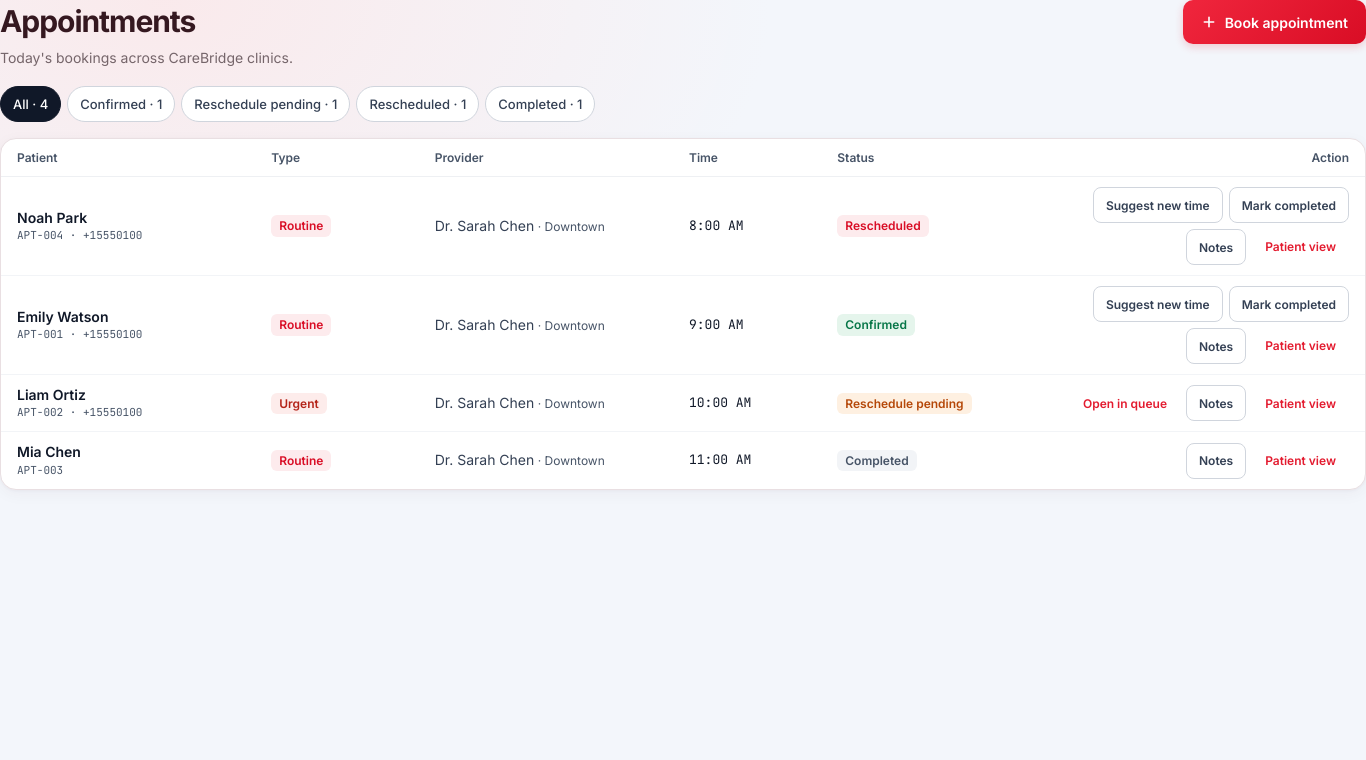
Test: AppointmentsView list › opens staff-only appointment notes and saves a note
Click the button "Notes" in the row of "9:00 AM": (1216, 346) [1186,328,1246,364]
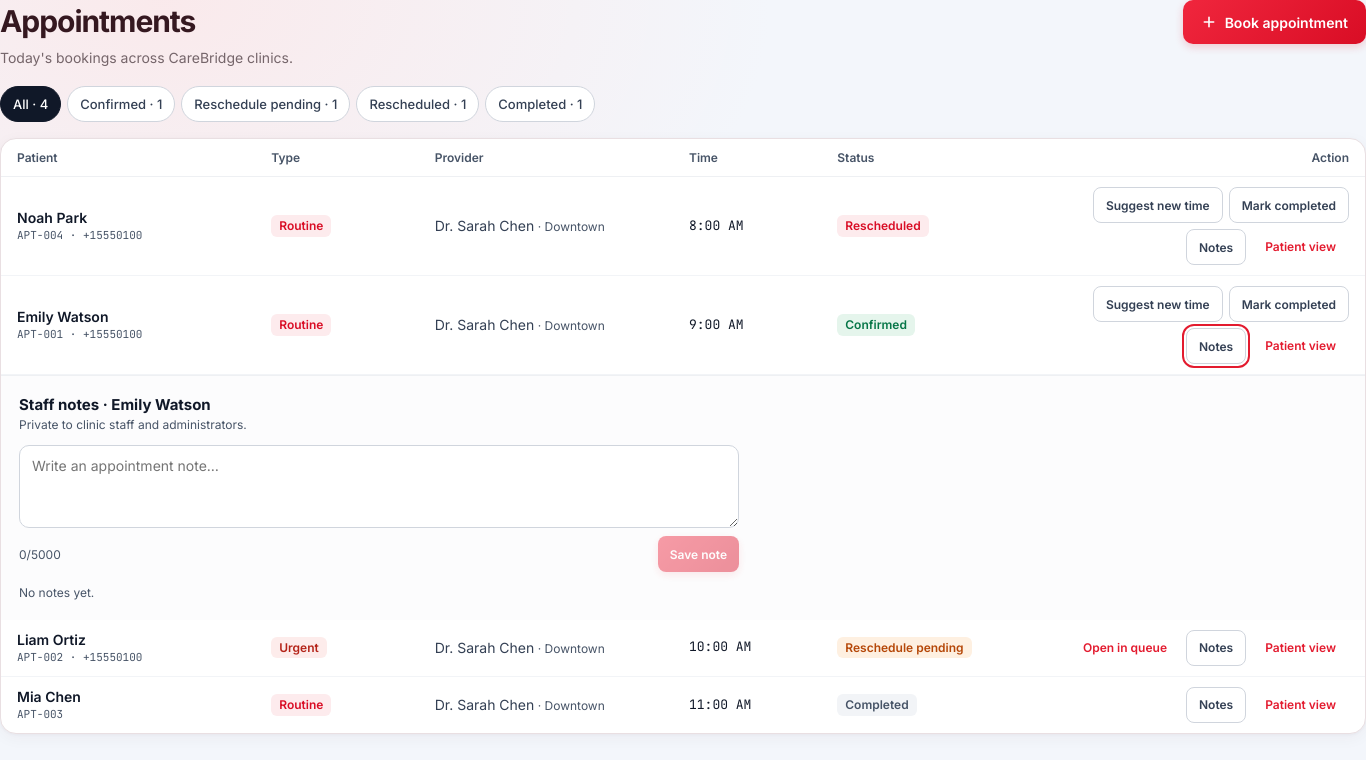
In the text box named "Add a note": (379, 487) [19,445,739,528], type "Call patient tomorrow"
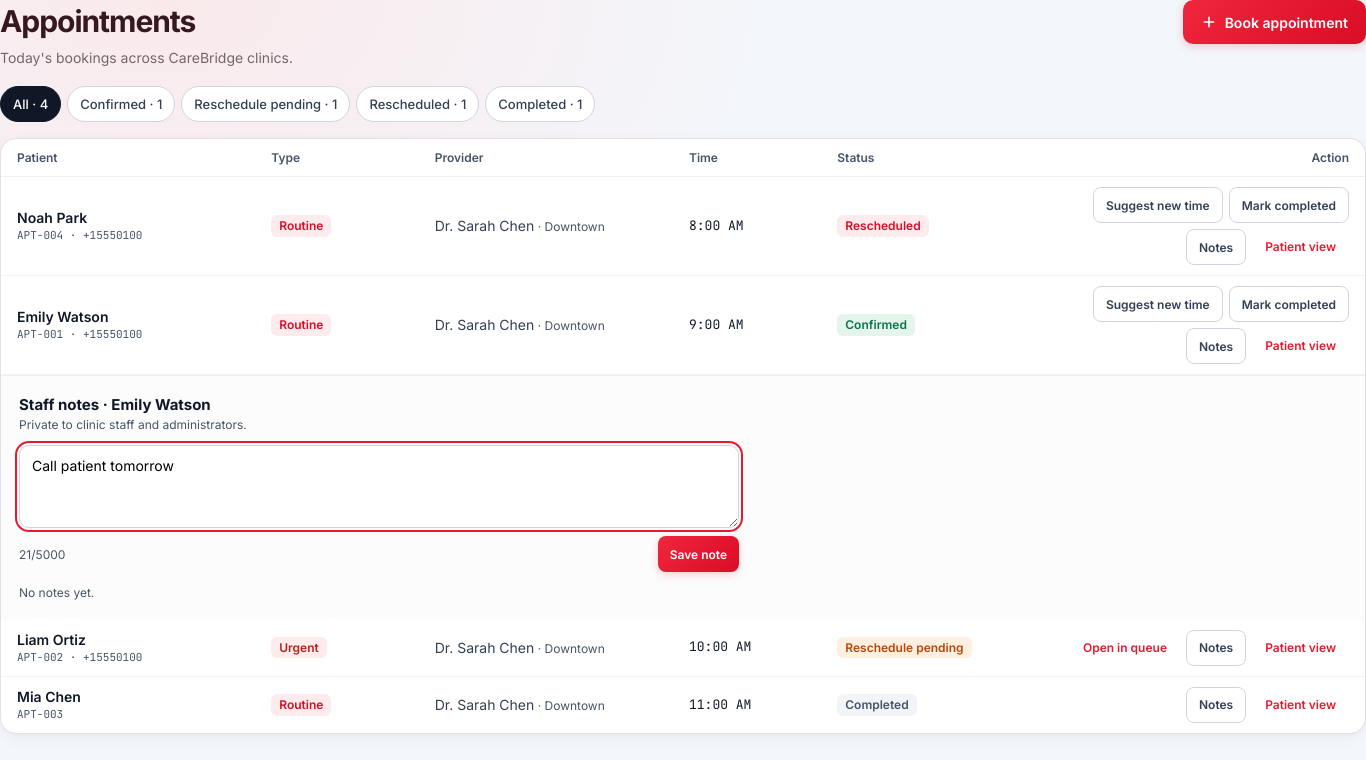
Click the button "Save note": (698, 554) [658,536,739,572]
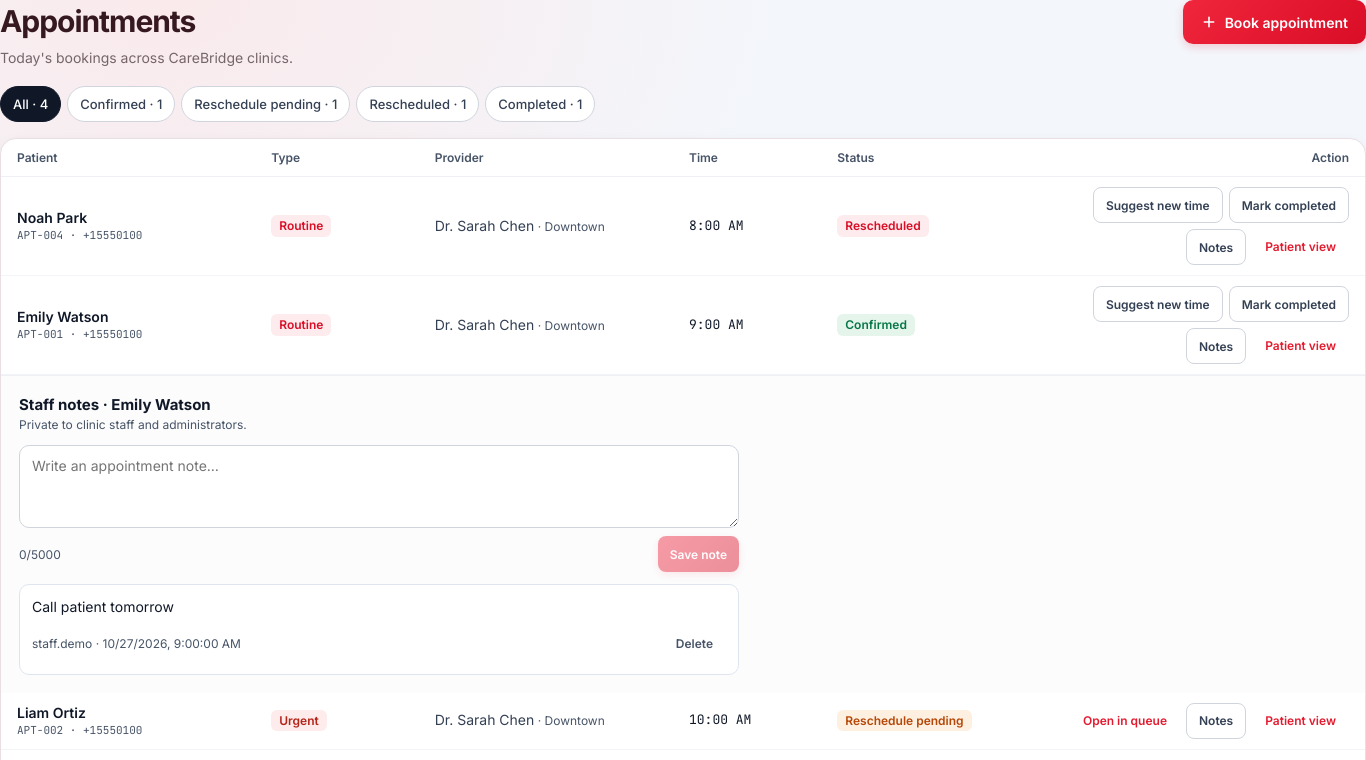
Now the text "Private to clinic staff and administrators." is shown, box [19,417,247,432]
Now the text "Call patient tomorrow" is shown, box [32,598,174,615]
